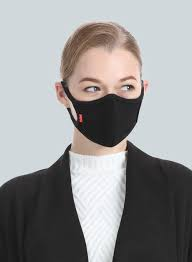Mask: (65, 48, 144, 145)
